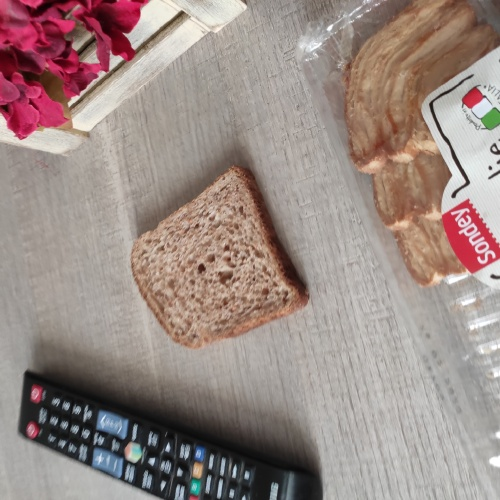pane: (130, 159, 317, 352)
